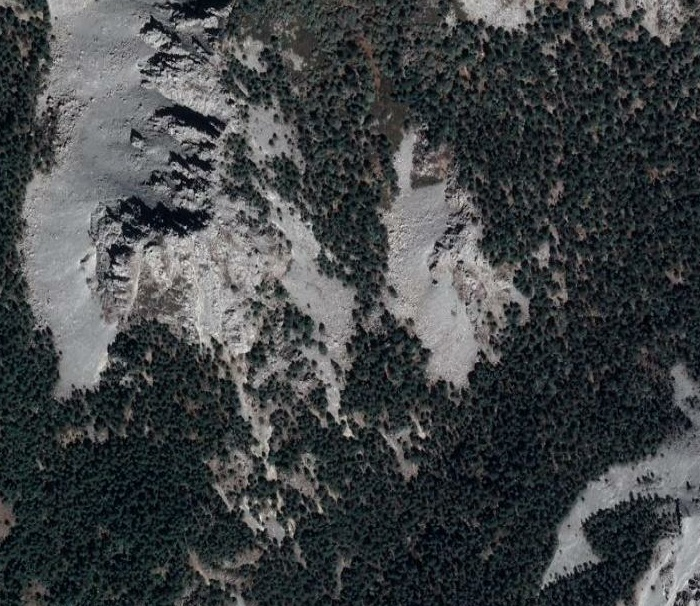slope: (95, 191, 292, 359), (410, 129, 533, 356), (139, 18, 243, 132)
